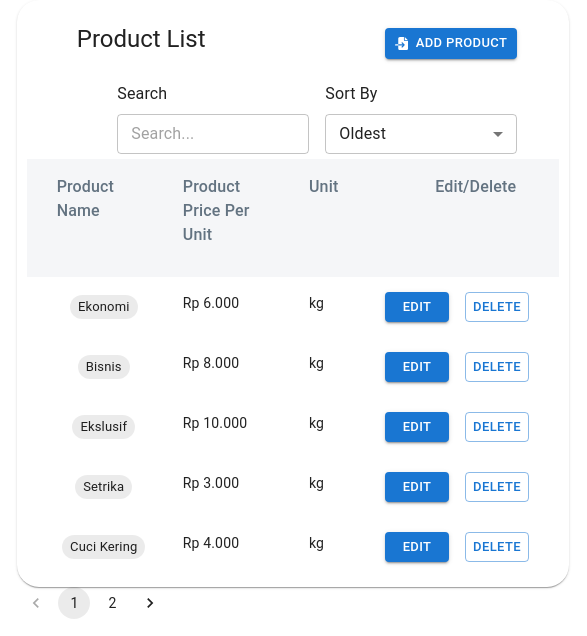
DataTableProducts › should works correctly in pagination
The image size is (587, 636).
Click the button named "Go to next page".
click(150, 603)  # box top-left (134, 587), bottom-right (166, 619)
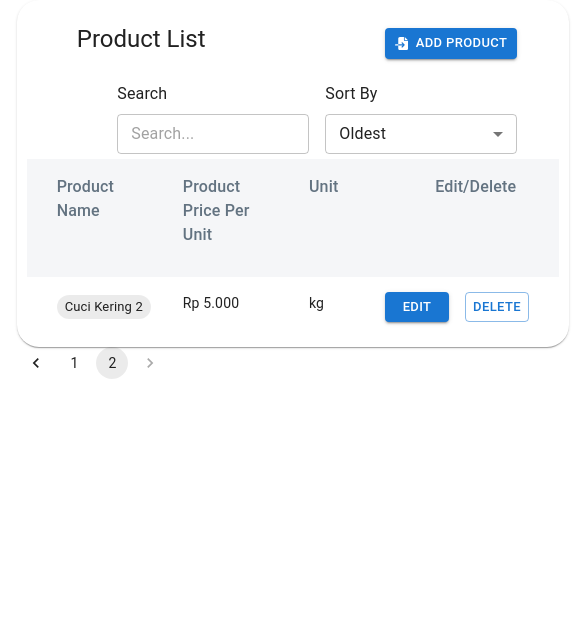
Check: the text "Cuci Kering 2" is shown, box top-left (65, 299), bottom-right (143, 314)
